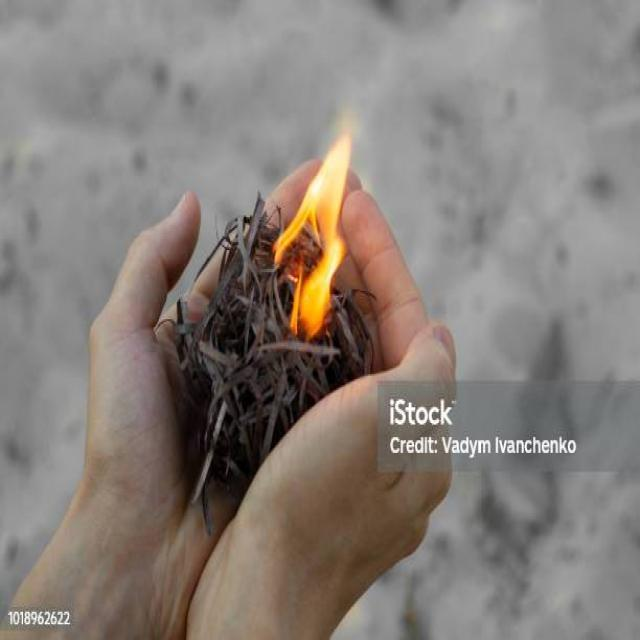Fire: (270, 111, 353, 345)
